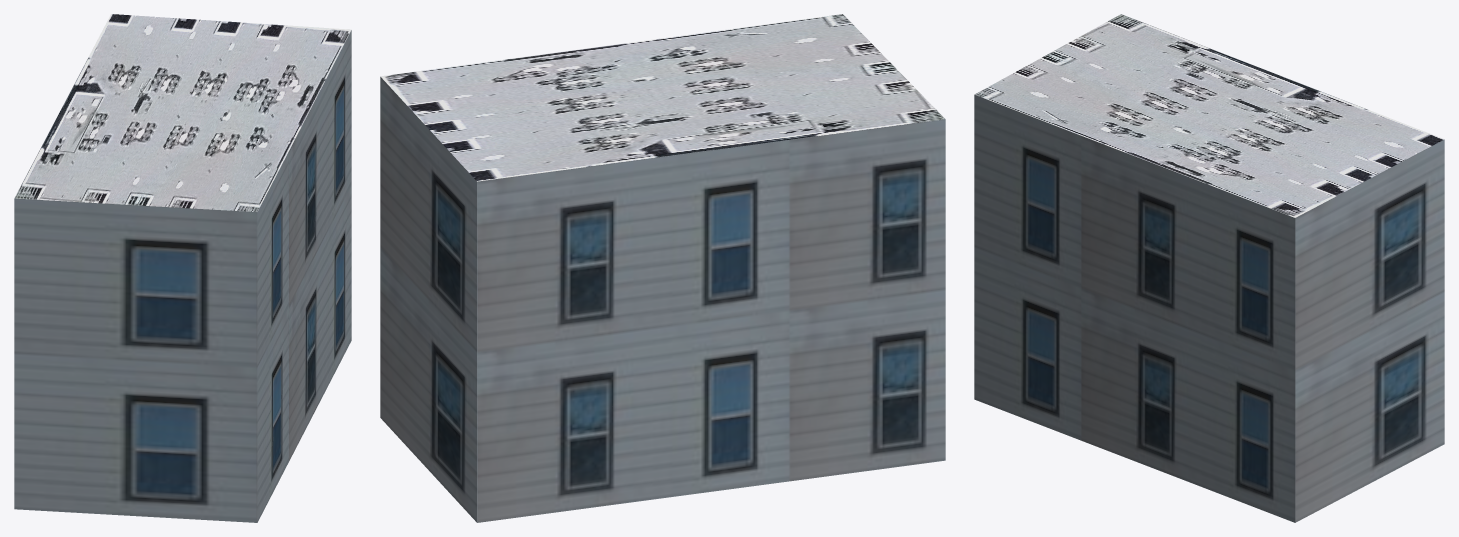
The model's file is ResTex__292.fbx.
3 views of the same model, side by side, from view 1: azimuth 30°, elevation 25°; view 2: azimuth 150°, elevation 25°; view 3: azimuth 270°, elevation 25° (orthographic). The views are drawn at different scales.
Parts seen in each view (by area): view 1: CityEngineMaterial_18_m, CityEngineMaterial_8_m; view 2: CityEngineMaterial_18_m, CityEngineMaterial_8_m; view 3: CityEngineMaterial_18_m, CityEngineMaterial_8_m.
Part boxes in pixels (<box>): CityEngineMaterial_18_m: <box>14,30,351,522</box>; CityEngineMaterial_8_m: <box>14,14,351,211</box>; CityEngineMaterial_18_m: <box>380,77,945,522</box>; CityEngineMaterial_8_m: <box>380,14,945,181</box>; CityEngineMaterial_18_m: <box>974,94,1444,522</box>; CityEngineMaterial_8_m: <box>975,14,1443,217</box>.
Bounding box in the file's own units: 8.61 × 6 × 8.39.
2 materials, 2 textured.
